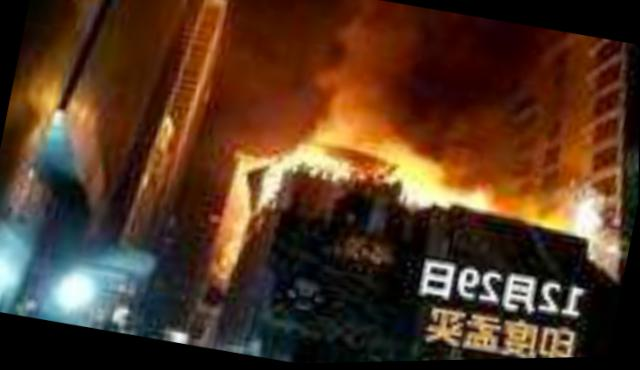fire: (259, 86, 615, 240)
